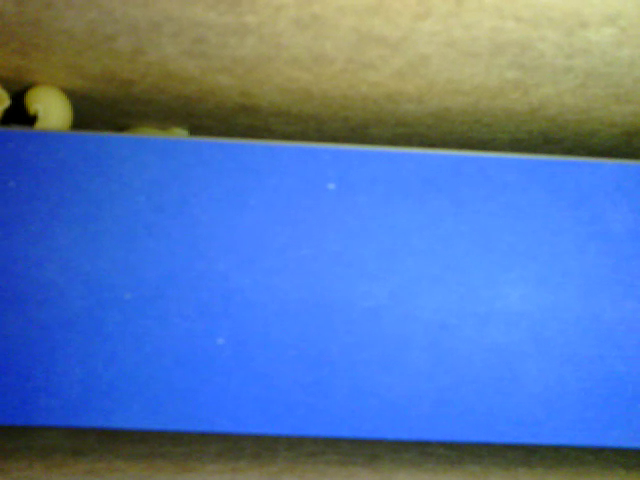shell: (22, 82, 74, 134)
